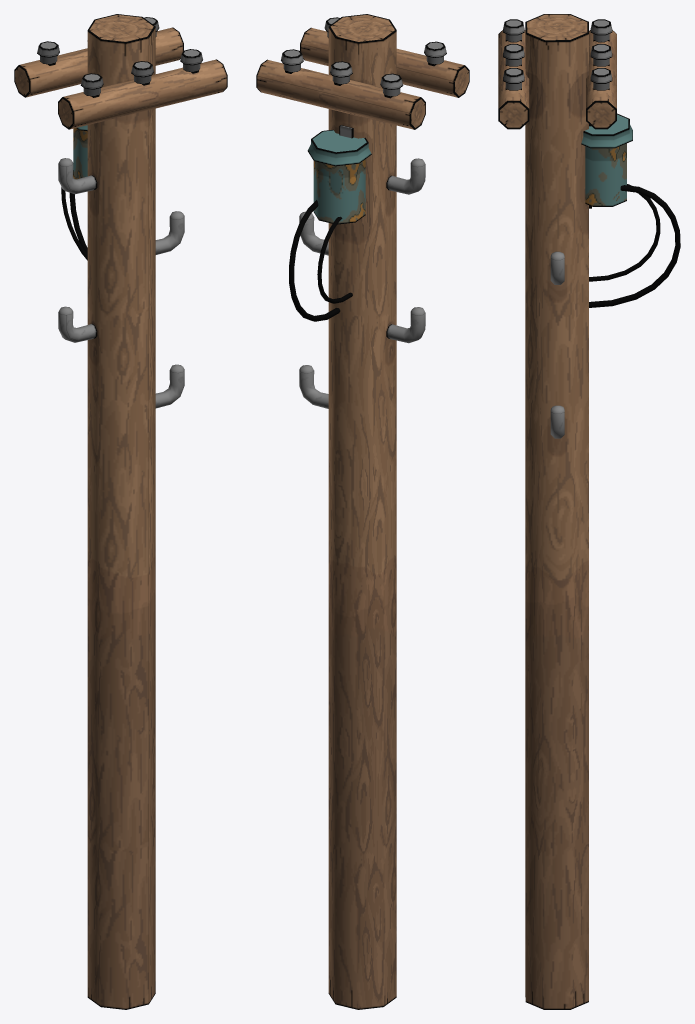
Rendered from Prop_Poste.fbx.
3 renders of one model, left to right at view 1: azimuth 30°, elevation 25°; view 2: azimuth 150°, elevation 25°; view 3: azimuth 270°, elevation 25°, orthographic.
Parts seen in each view (by area): view 1: Prop_Poste_Electrico; view 2: Prop_Poste_Electrico; view 3: Prop_Poste_Electrico.
Part boxes in pixels (bbox=[...]): Prop_Poste_Electrico: bbox=[14, 14, 227, 1009]; Prop_Poste_Electrico: bbox=[256, 14, 469, 1009]; Prop_Poste_Electrico: bbox=[498, 14, 680, 1009].
Size of the model in its own units: 1.17 by 7.01 by 1.2.
